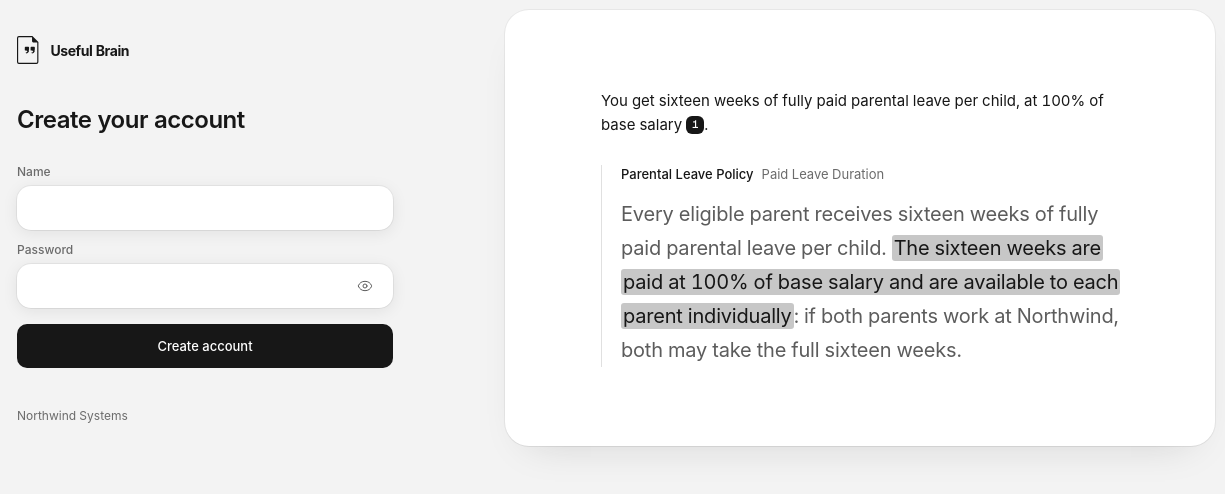
Test: InviteAcceptForm › shows one generic message for an invalid, expired or used link
Type "Ana Lima" into the field labelled "Name".
click(205, 208); type("Ana Lima")  # box [29, 186, 381, 230]
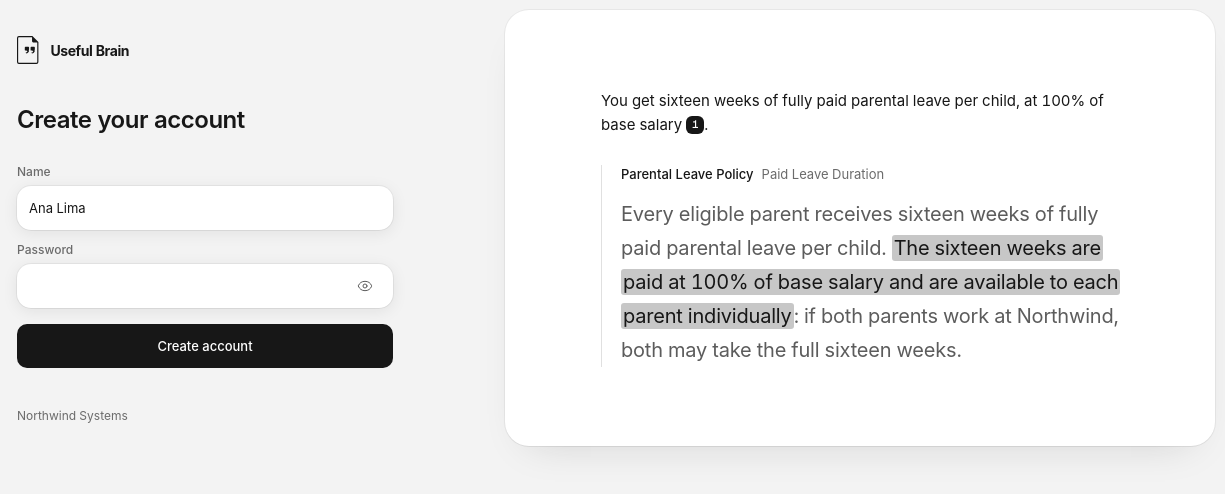
Type "longenough1" into the password field labelled "Password".
click(185, 286); type("longenough1")  # box [29, 264, 341, 308]
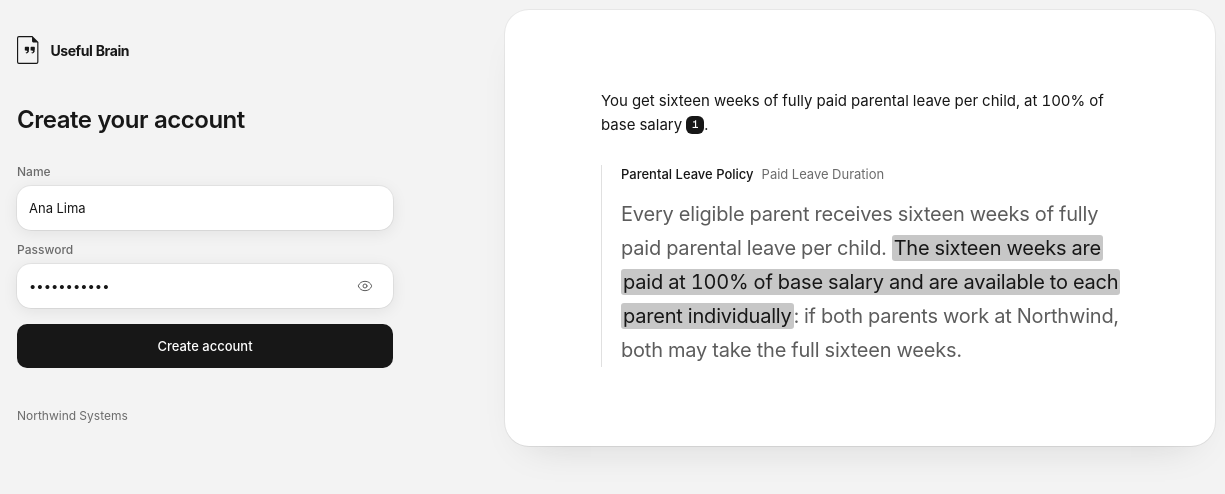
Click the button "Create account".
click(205, 346)  # box [17, 324, 393, 368]
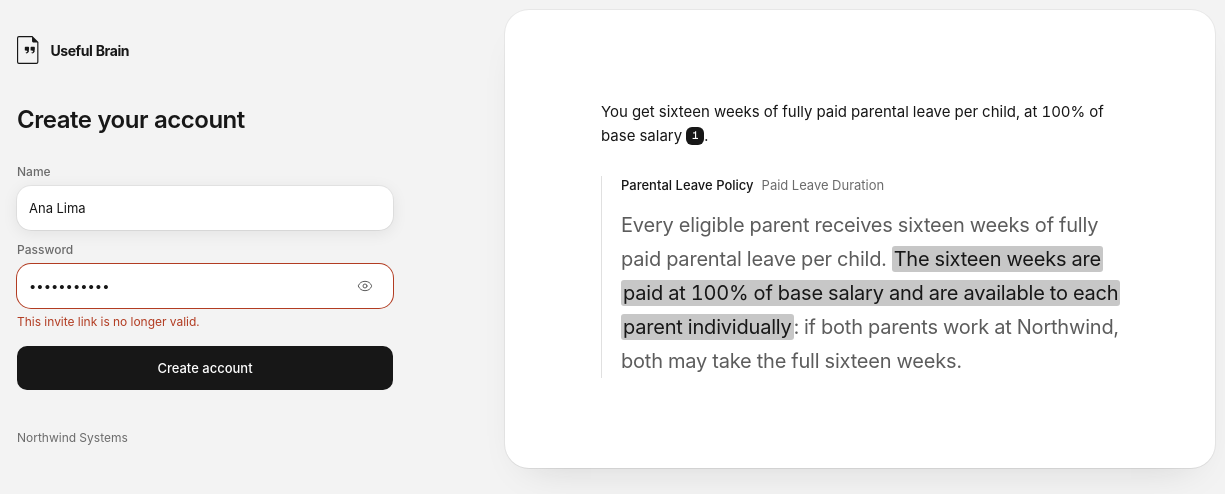
Expected: the text "This invite link is no longer valid." is shown, [17, 314, 200, 329]
